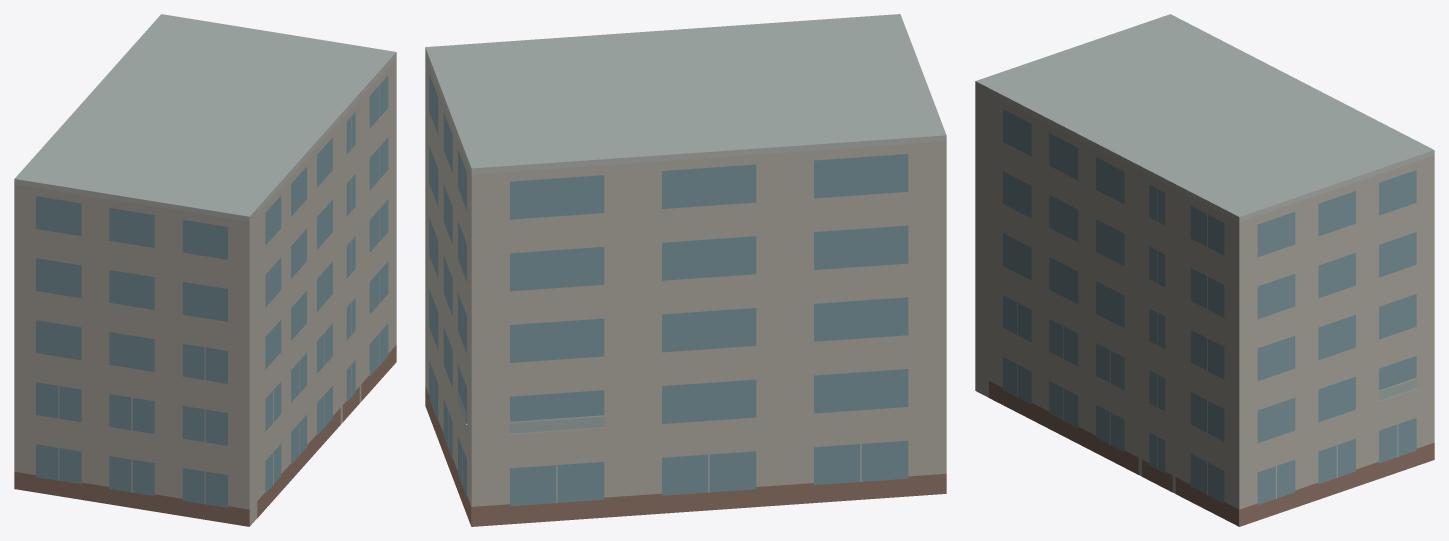
File: survey-upis-32746035.glb
3 views of the same model, side by side, from view 1: azimuth 30°, elevation 25°; view 2: azimuth 150°, elevation 25°; view 3: azimuth 270°, elevation 25° (orthographic). The views are drawn at different scales.
Visible parts, largest first — view 1: survey-upis-32746035.tmp; view 2: survey-upis-32746035.tmp; view 3: survey-upis-32746035.tmp.
Part boxes in pixels (x1,y1,x2,y2): survey-upis-32746035.tmp: (14,14,396,526); survey-upis-32746035.tmp: (425,14,946,526); survey-upis-32746035.tmp: (975,14,1434,526).
Size of the model in its own units: 20.11 by 14.3 by 19.21.
